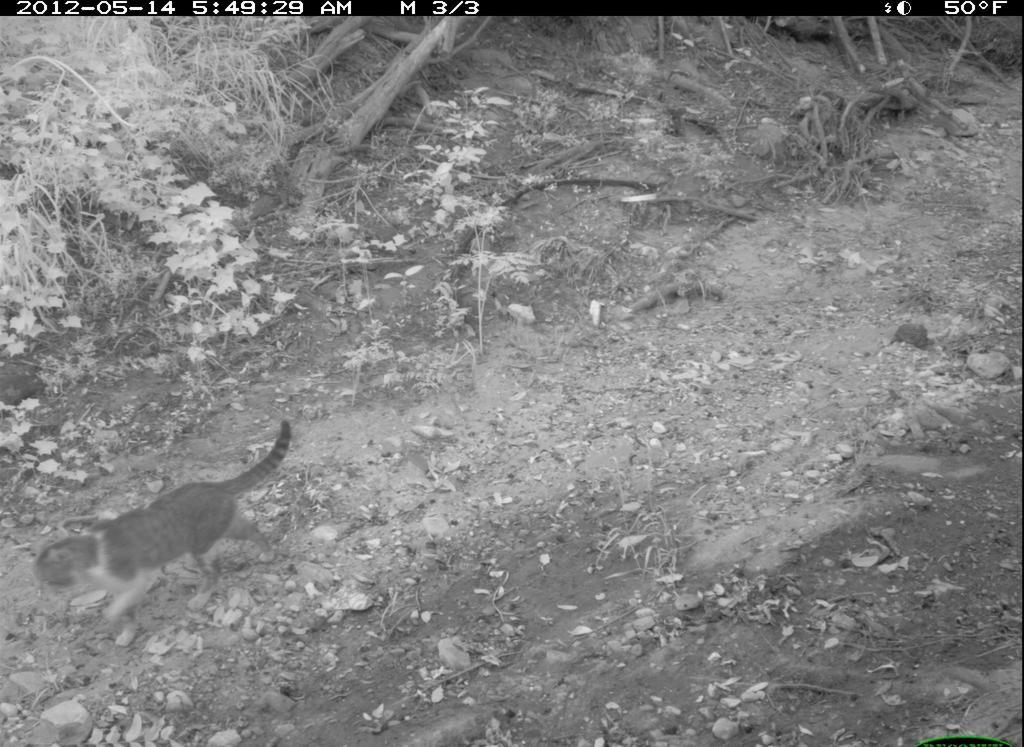cat: (31, 418, 305, 646)
